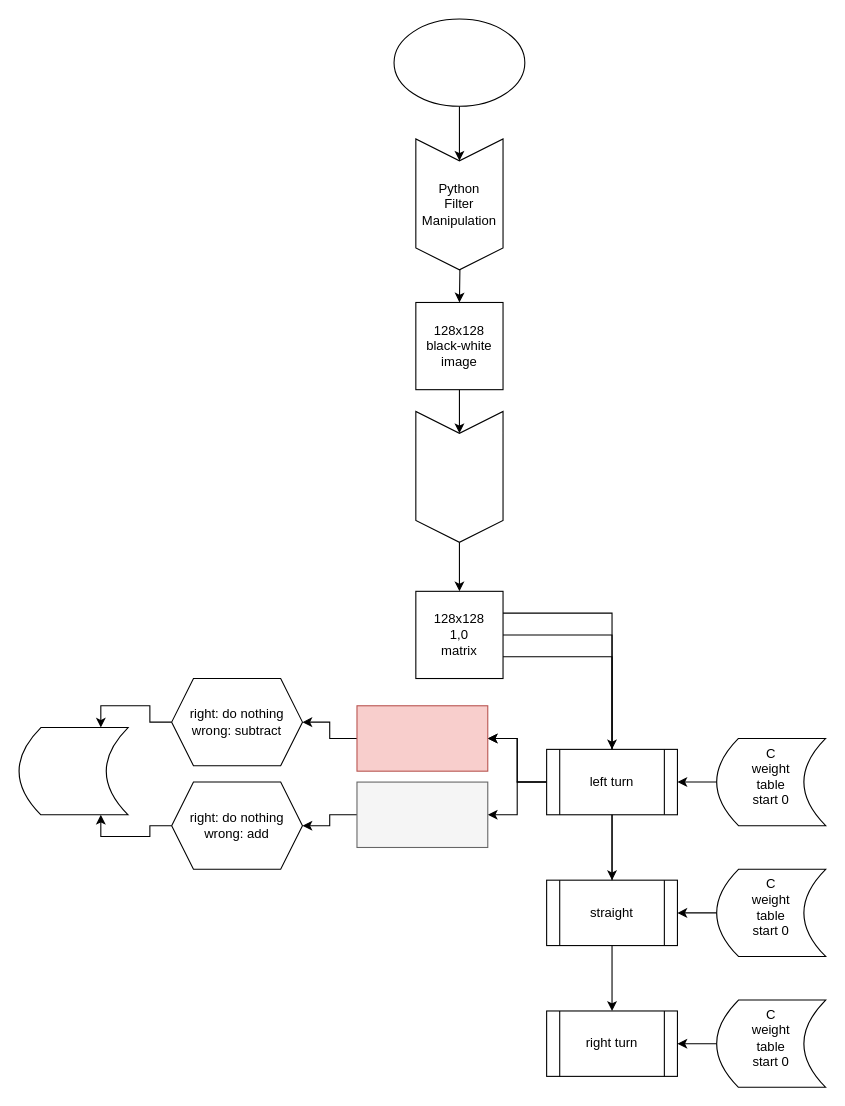
The diagram is 845 pixels wide and 1106 high, and some of its shapes have lost their labels. The box of each missing label's shape, as (x1, y1, x2, y2) in pixels:
adjusted weight table: (18, 726, 128, 815)
hadamard product <=bias(0) return void: (356, 781, 488, 847)
hadamard product >bias(0) return TURN LEFT: (356, 705, 488, 771)
Python Matrix Calculation: (415, 410, 503, 542)
Raw Image: (393, 18, 525, 106)
